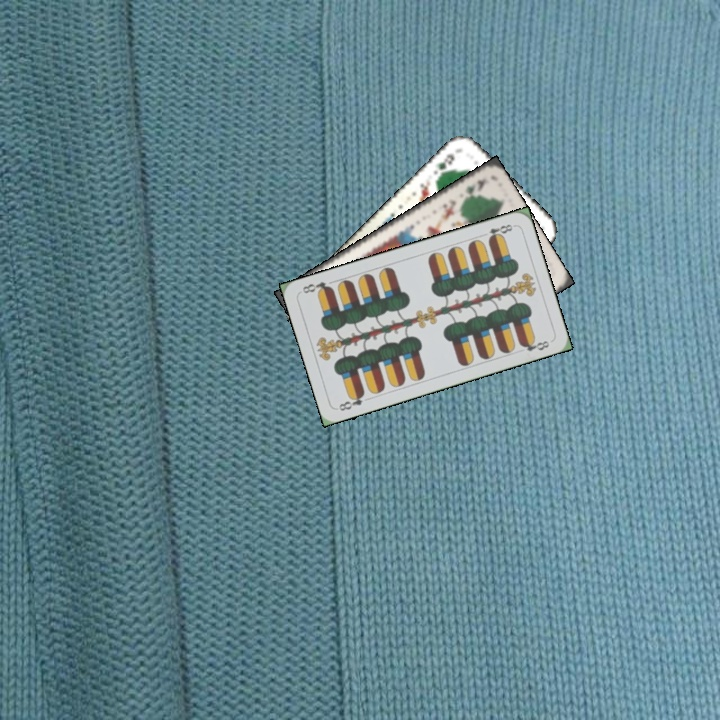E8: (335, 388, 367, 414), (484, 220, 517, 243)
GK: (458, 175, 489, 204), (434, 149, 458, 181)
